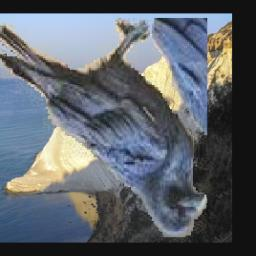Crow: (0, 19, 207, 238)
